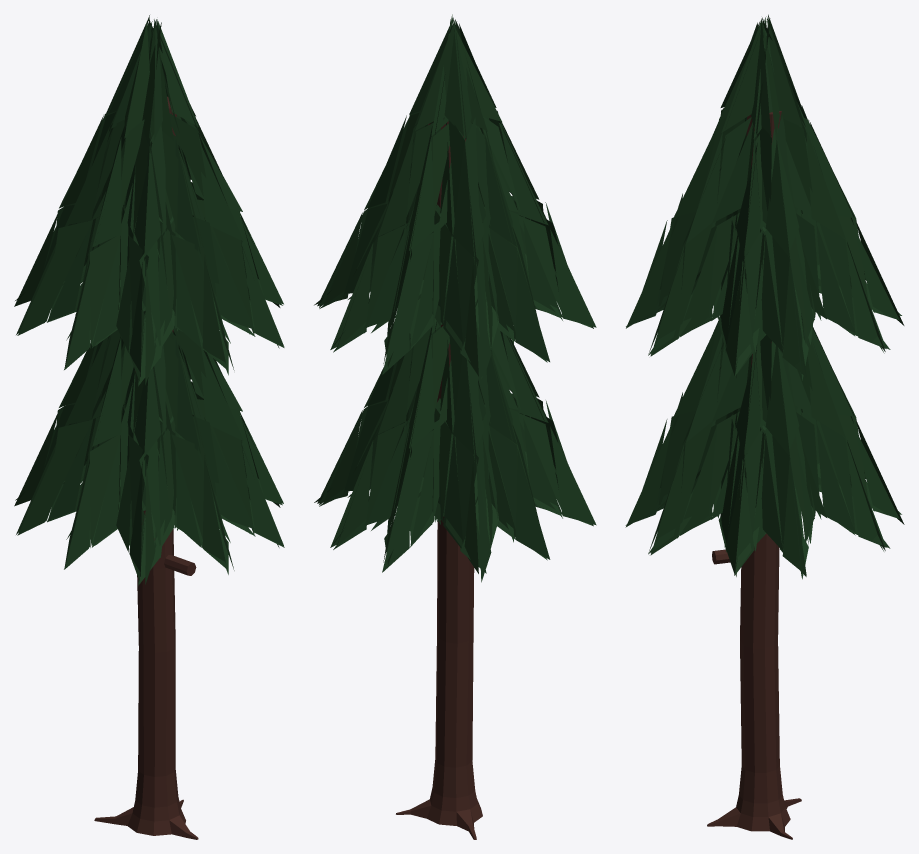
The model's file is pinetree.glb.
The picture shows the model from 3 angles, left to right: view 1: azimuth 30°, elevation 25°; view 2: azimuth 150°, elevation 25°; view 3: azimuth 270°, elevation 25°; orthographic projection.
Parts seen in each view (by area): view 1: pinetree; view 2: pinetree; view 3: pinetree.
Boxes of the visible parts, x1,y1,x2,y2 form: pinetree: (14, 15, 284, 839); pinetree: (314, 14, 596, 839); pinetree: (625, 14, 904, 839).
Size of what is drawn, in the model's own units: 9.15 by 29.68 by 9.33.
